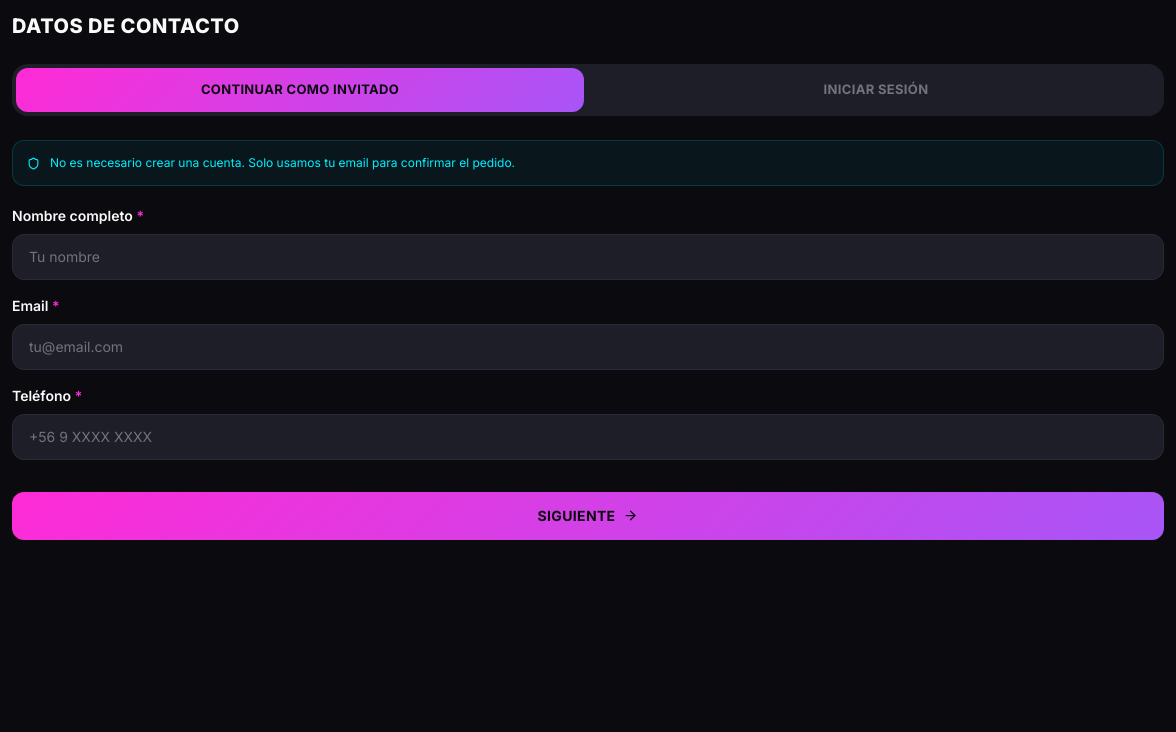
Test case: StepData (composed Data step) › blocks invalid contact data without advancing or submitting
Step 1. Type "A" into the field labelled "Nombre completo *" → (588, 256), box [12, 234, 1164, 280]
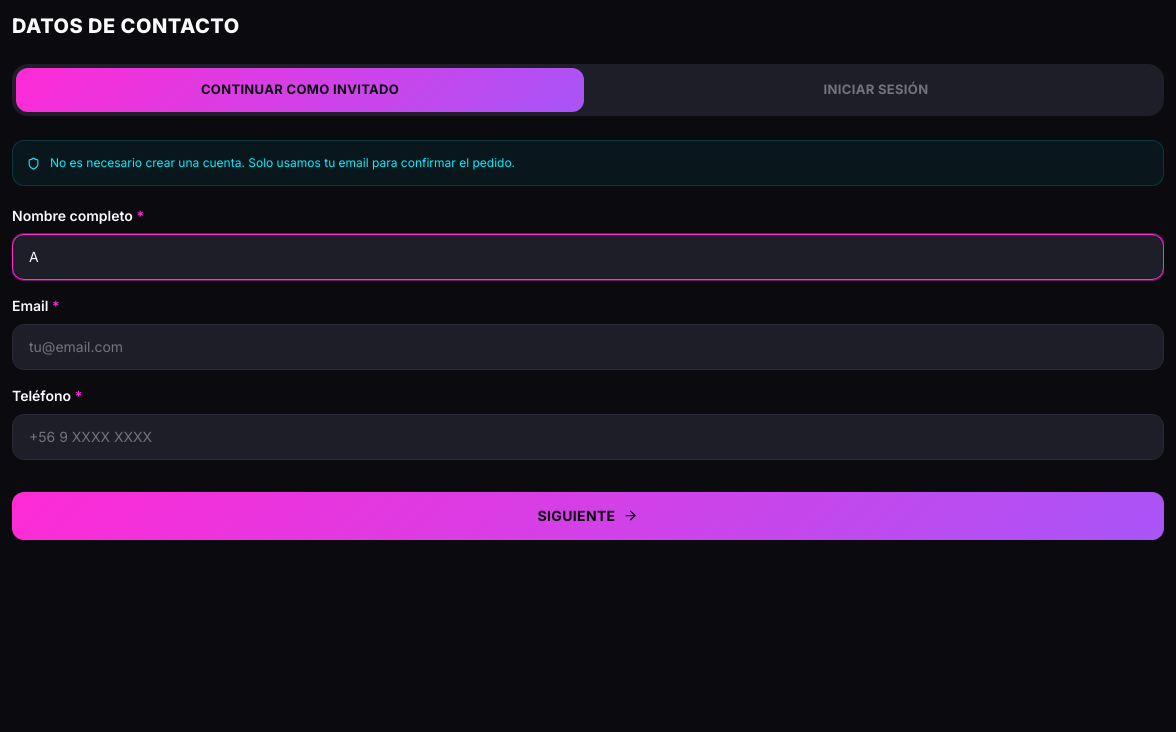
Step 2. Click the button "Siguiente" → (588, 516), box [12, 492, 1164, 540]
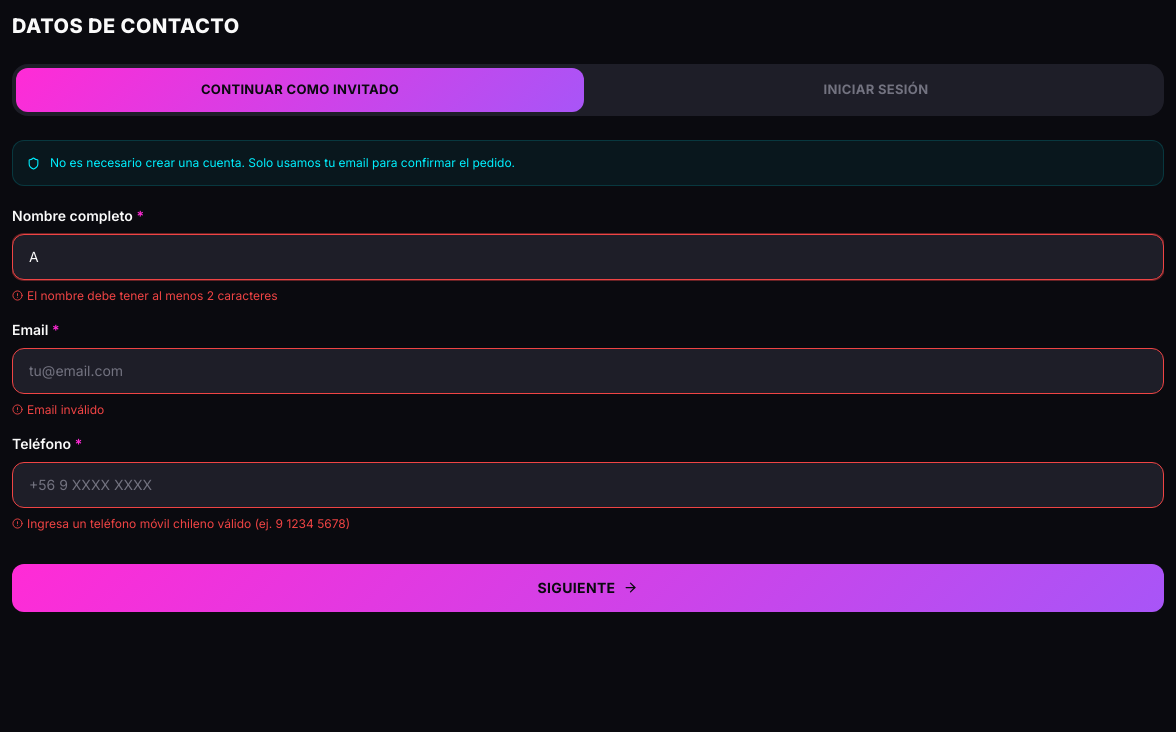
Check: the text "El nombre debe tener al menos 2 caracteres" is shown, box [12, 288, 278, 302]
